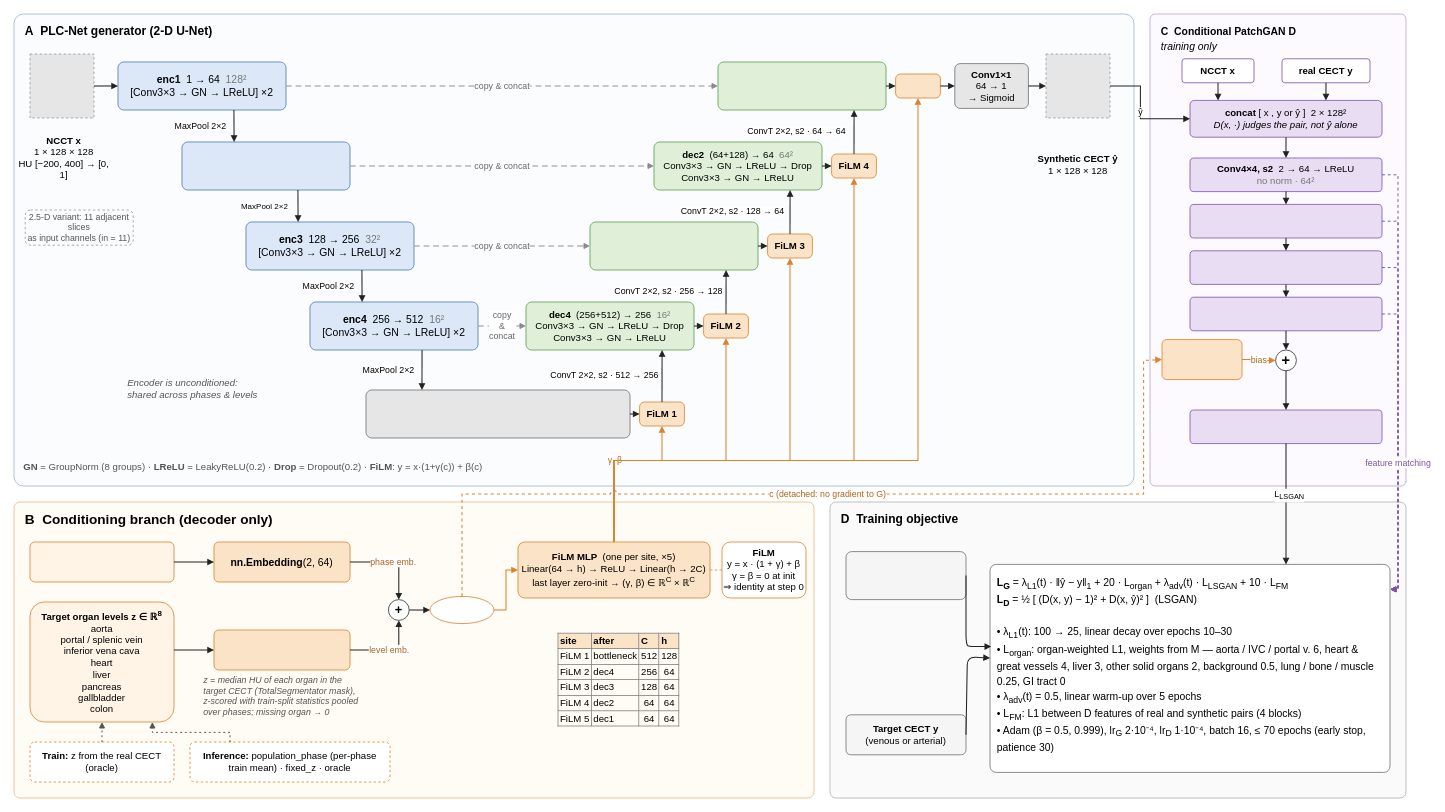
The diagram is 1445 pixels wide and 812 high, and some of its shapes have lost their labels. Grey dashed boxes stand in for pictures. The centre of each missing label's shape, as x and y in pixels:
Bottleneck 512 → 512 8² [Conv3×3 → GN → LReLU → Drop] ×2: the point at 497,413
c ∈ ℝ 64: the point at 461,610
Conv4×4, s1 256 → 512 → BN → LReLU 15²: the point at 1285,313
Conv4×4, s1 512 → 1 14 × 14 patch logit map (real / fake): the point at 1285,426
Conv4×4, s2 128 → 256 → BN → LReLU 16²: the point at 1285,267
Conv4×4, s2 64 → 128 → BN → LReLU 32²: the point at 1285,221
dec1 (64+64) → 64 128² Conv3×3 → GN → LReLU → Drop Conv3×3 → GN → LReLU: the point at 801,85
dec3 (128+256) → 128 32² Conv3×3 → GN → LReLU → Drop Conv3×3 → GN → LReLU: the point at 673,245
enc2 64 → 128 64² [Conv3×3 → GN → LReLU] ×2: the point at 265,165
FiLM 5: the point at 917,85
Linear (64 → 512) zero-init: the point at 1201,359
Linear (8 → 64) zero-init: the point at 281,649
Phase id p venous = 0 · arterial = 1: the point at 101,561
TotalSegmentator organ mask M training only: the point at 905,575
